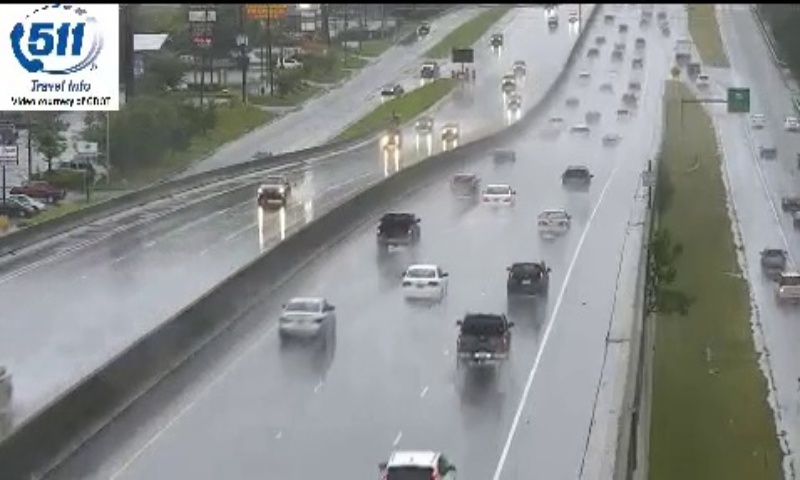car: (456, 312, 510, 363), (279, 297, 333, 337), (401, 264, 446, 302), (506, 262, 548, 297), (376, 211, 416, 243), (537, 209, 569, 234)
